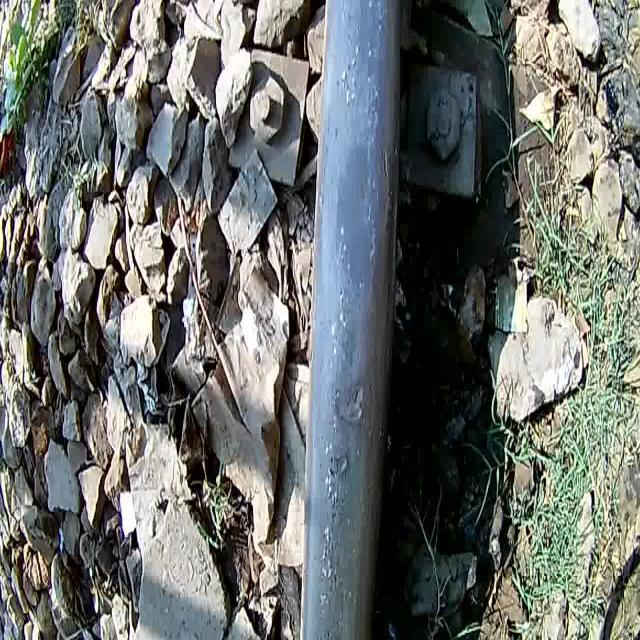Squats: (312, 126, 407, 309), (294, 372, 398, 491)
